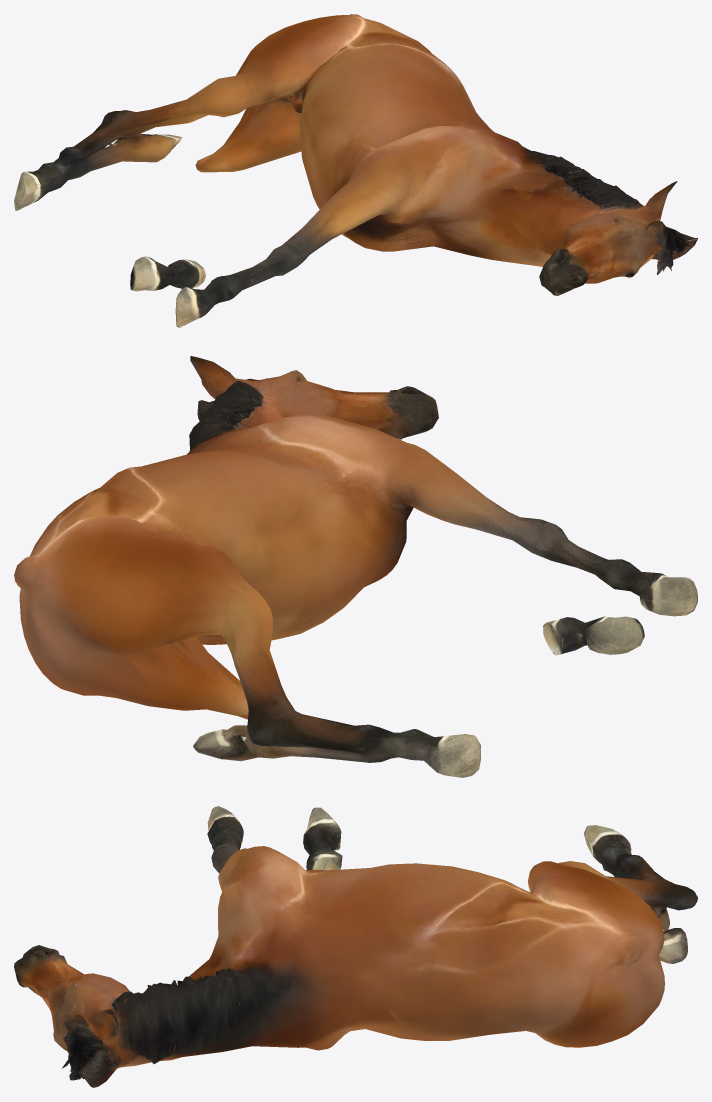
The model's file is deadhorse.glb.
3 views of the same model, one above another, from view 1: azimuth 30°, elevation 25°; view 2: azimuth 150°, elevation 25°; view 3: azimuth 270°, elevation 25° (orthographic). The views are drawn at different scales.
Visible parts, largest first — view 1: Mesh_0; view 2: Mesh_0; view 3: Mesh_0.
Boxes of the visible parts, box(x1,y1,x2,y2) form: Mesh_0: box(14, 14, 697, 327); Mesh_0: box(14, 356, 697, 777); Mesh_0: box(14, 806, 697, 1087).
Size of the model in its own units: 1.7 by 0.4963 by 1.91.
1 material, 1 textured.
